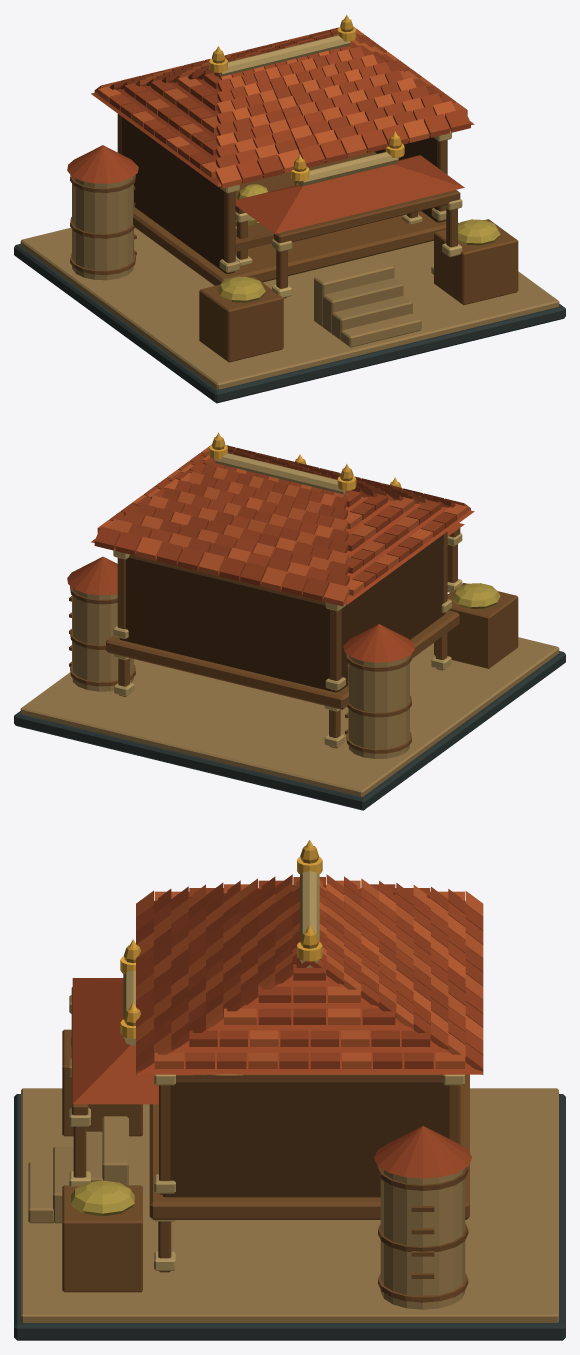
3 renders of one model, top to bottom at view 1: azimuth 30°, elevation 25°; view 2: azimuth 150°, elevation 25°; view 3: azimuth 270°, elevation 25°, orthographic. The views are drawn at different scales.
Visible parts, largest first — view 1: granary_6_structure, granary_6_metal; view 2: granary_6_structure, granary_6_metal; view 3: granary_6_structure, granary_6_metal.
Part boxes in pixels (x1,y1,x2,y2): granary_6_structure: (14,19,565,403); granary_6_metal: (209,15,404,181); granary_6_structure: (14,437,565,810); granary_6_metal: (209,432,397,490); granary_6_structure: (14,846,565,1340); granary_6_metal: (120,840,322,1038).
Bounding box in the file's own units: 5.6 × 3.84 × 5.6.
